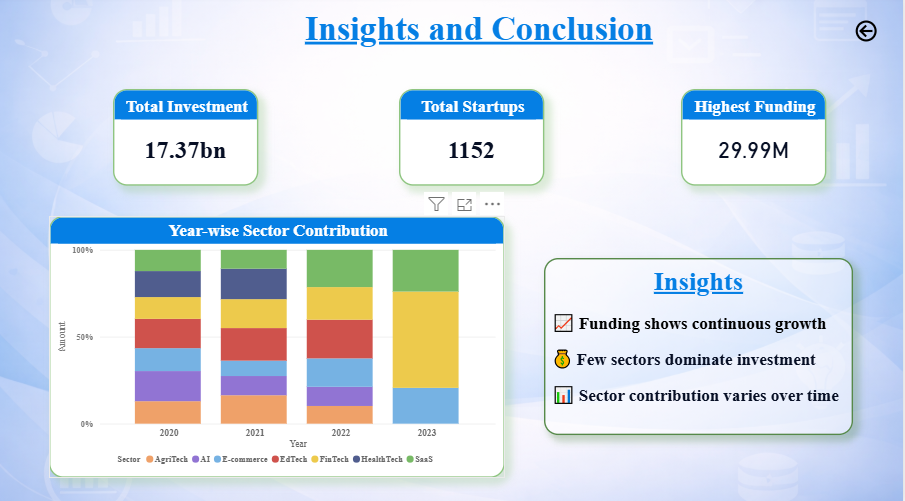

Layout of this report page (visuals, bound fields, positions):
{"tool":"powerbi","page":{"name":"Insights and Conclusion","canvas":[1280,720],"ordinal":5},"visuals":[{"type":"card","title":"Total Investment","fields":{"Values":["Sum(Startup.Amount (USD))"]},"box":[161.6,131.8,205.5,137.5],"z":0},{"type":"card","title":"Total Startups","fields":{"Values":["Count(Startup.Startup Name)"]},"box":[566.9,131.8,205.5,137.5],"z":1},{"type":"card","title":"Highest Funding","fields":{"Values":["Max(Startup.Amount (USD))"]},"box":[966.6,131.8,205.5,137.5],"z":2},{"type":"textbox","box":[409.6,12.8,541.4,72.3],"z":3},{"type":"hundredPercentStackedColumnChart","title":"Year-wise Sector Contribution","fields":{"Category":["Startup.Year"],"Series":["Startup.Sector"],"Y":["Sum(Startup.Amount (USD))"]},"box":[70.9,311.8,646.3,371.3],"z":4},{"type":"textbox","box":[772.4,371.3,438,250.9],"z":5},{"type":"actionButton","box":[1179.2,29.8,100.6,39.7],"z":6}]}

Visuals, with their boxes in screenshot pixels (x1, y1, x2, y2), scaled from the page's 1280x720 canvas onto the 905x501 screenshot:
"Total Investment" card: 114, 92, 260, 187
"Total Startups" card: 401, 92, 546, 187
"Highest Funding" card: 683, 92, 829, 187
textbox: 290, 9, 672, 59
"Year-wise Sector Contribution" hundredPercentStackedColumnChart: 50, 217, 507, 475
textbox: 546, 258, 856, 433
actionButton: 834, 21, 904, 48
